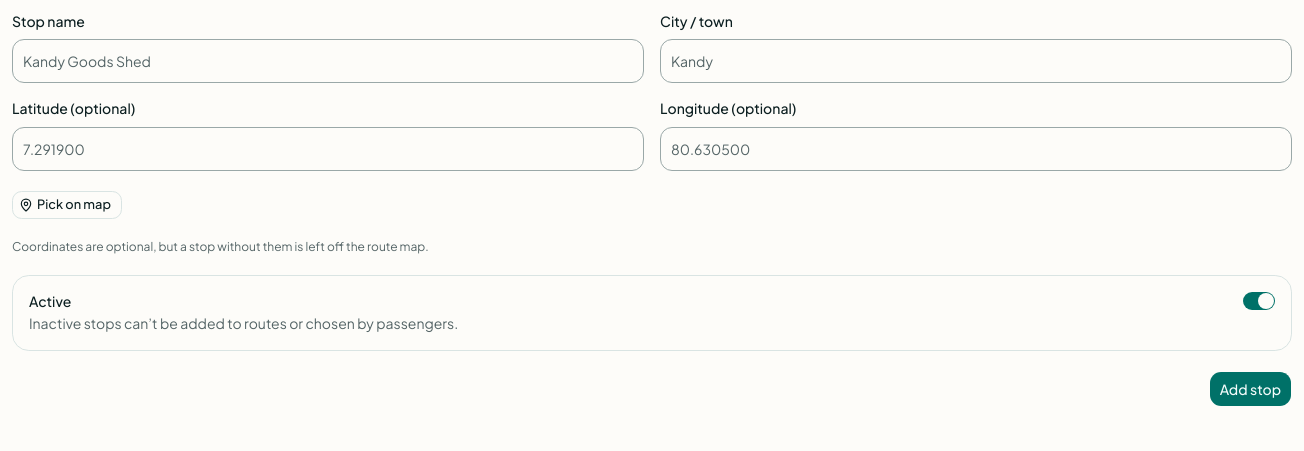
StopForm › requires latitude and longitude together
This screenshot has width=1304, height=451.
Type "Ella" into the field labelled "Stop name".
click(328, 61); type("Ella")  # box [12,39,644,83]
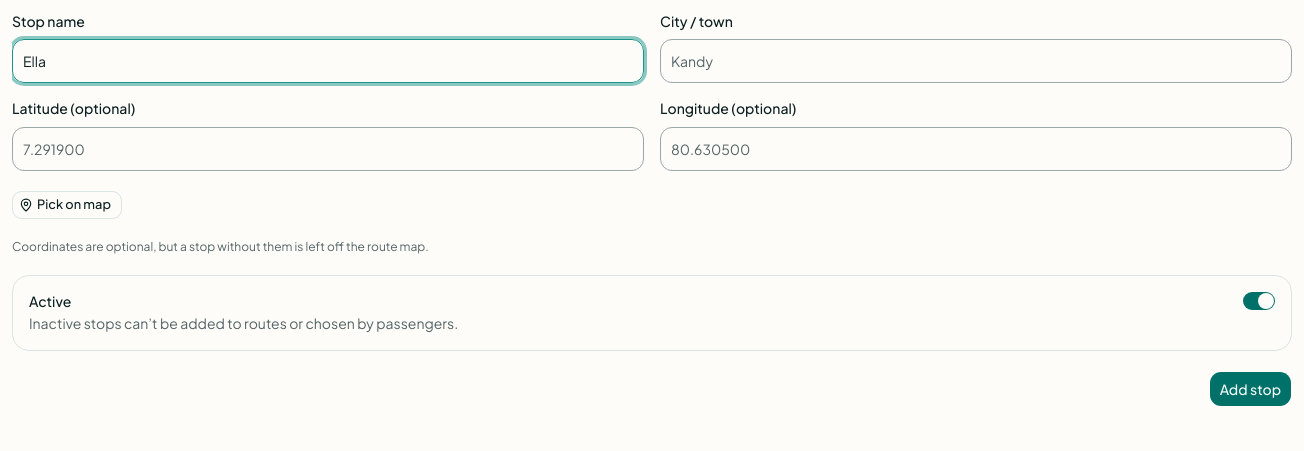
Type "Ella" into the field labelled "City / town".
click(976, 61); type("Ella")  # box [660,39,1292,83]
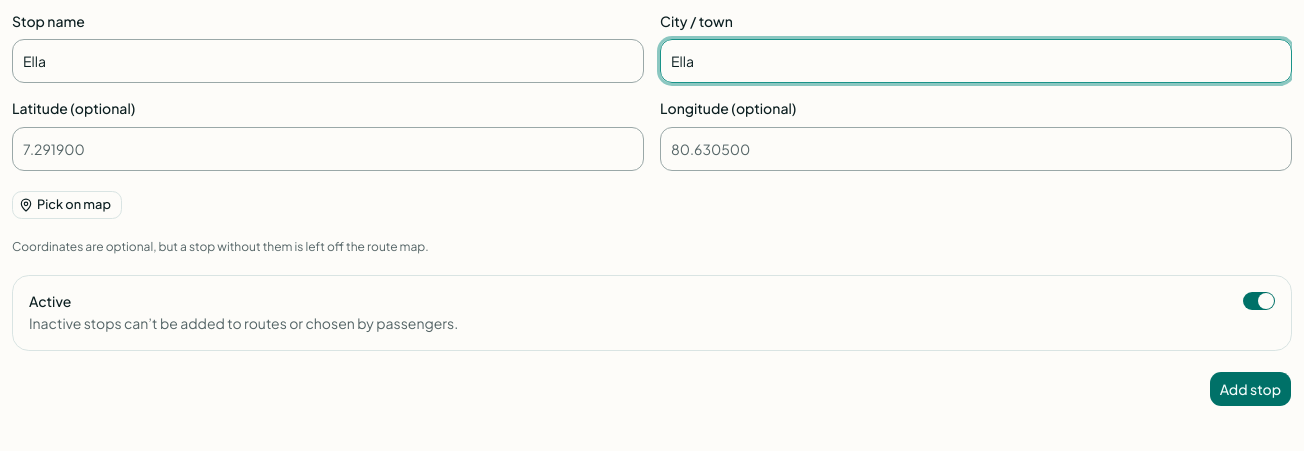
Type "6.8667" into the field labelled "Latitude (optional)".
click(328, 148); type("6.8667")  # box [12,126,644,170]
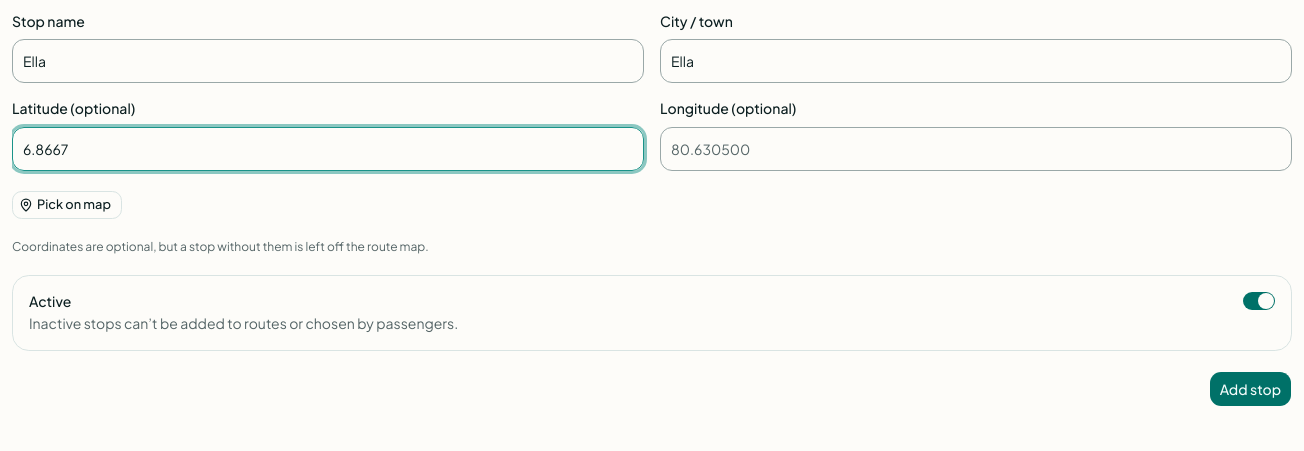
Click the button "Add stop".
click(1250, 389)  # box [1209,371,1292,407]
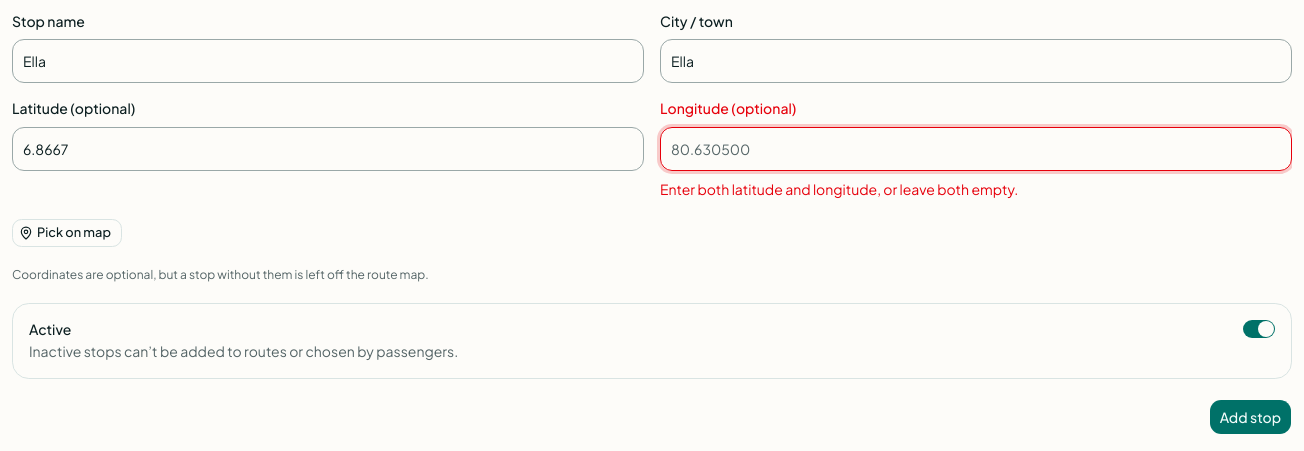
Check: the text "Enter both latitude and longitude, or leave both empty." is shown, box [660,180,1018,198]
